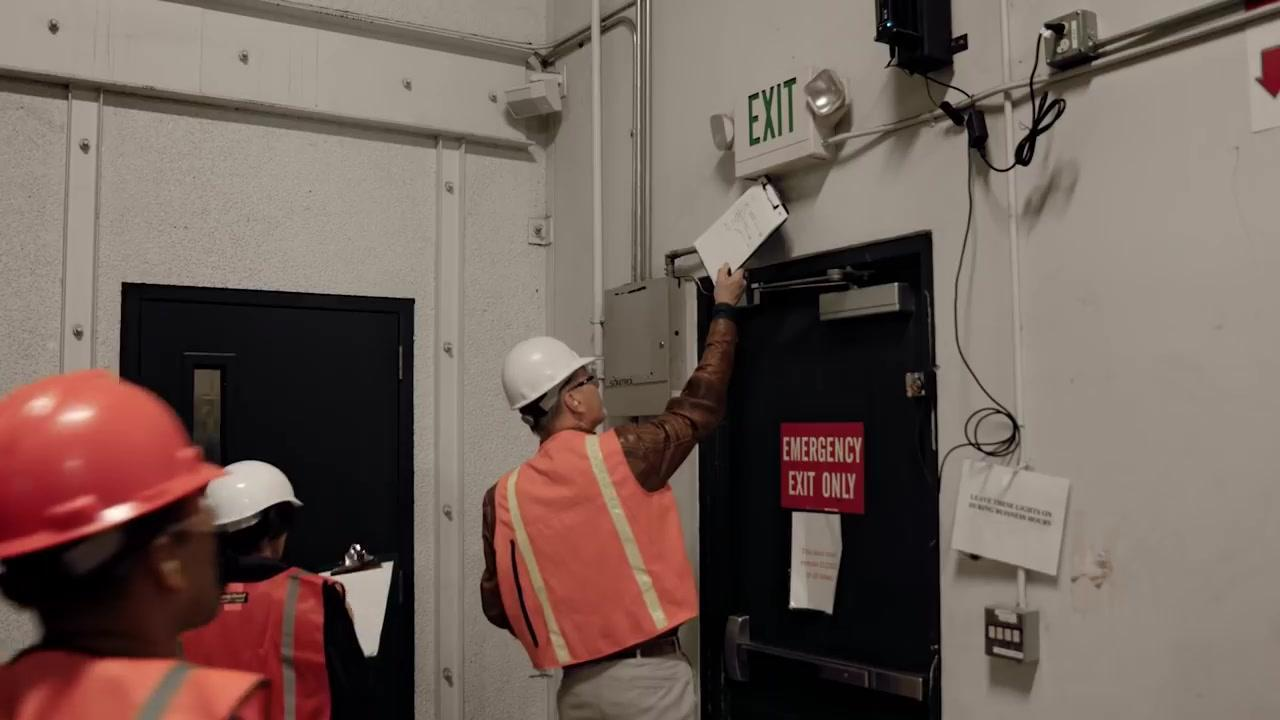vest: (488, 432, 700, 673), (177, 567, 346, 719), (0, 652, 276, 719)
